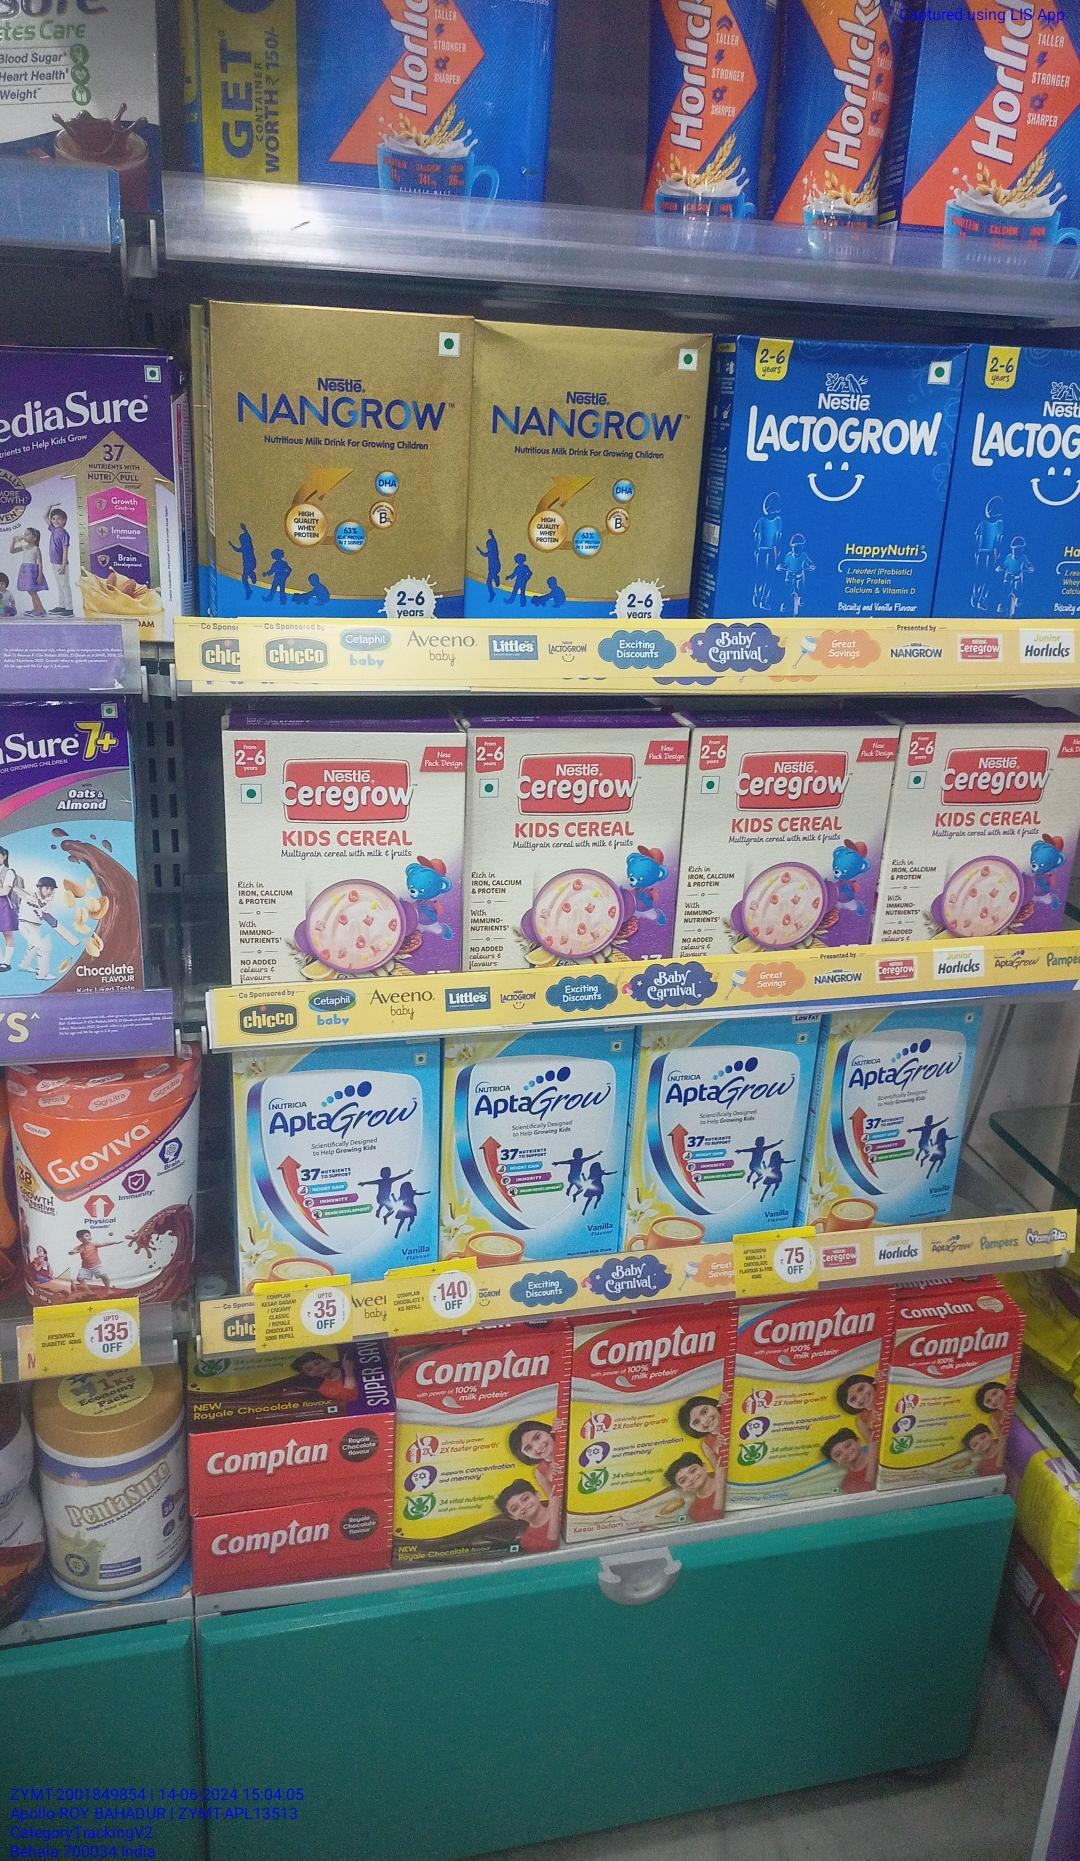COMPLAN_CHOCOLATE_500_GMS_PACK: (392, 1338, 564, 1562)
COMPLAN_CREAMY_CLASSIC_500_G_PACK: (733, 1292, 888, 1509)
COMPLAN_KESAR_BADAM_200_GMS_PACK: (894, 1315, 1007, 1491)
COMPLAN_KESAR_BADAM_500_GMS_PACK: (573, 1311, 729, 1533)
